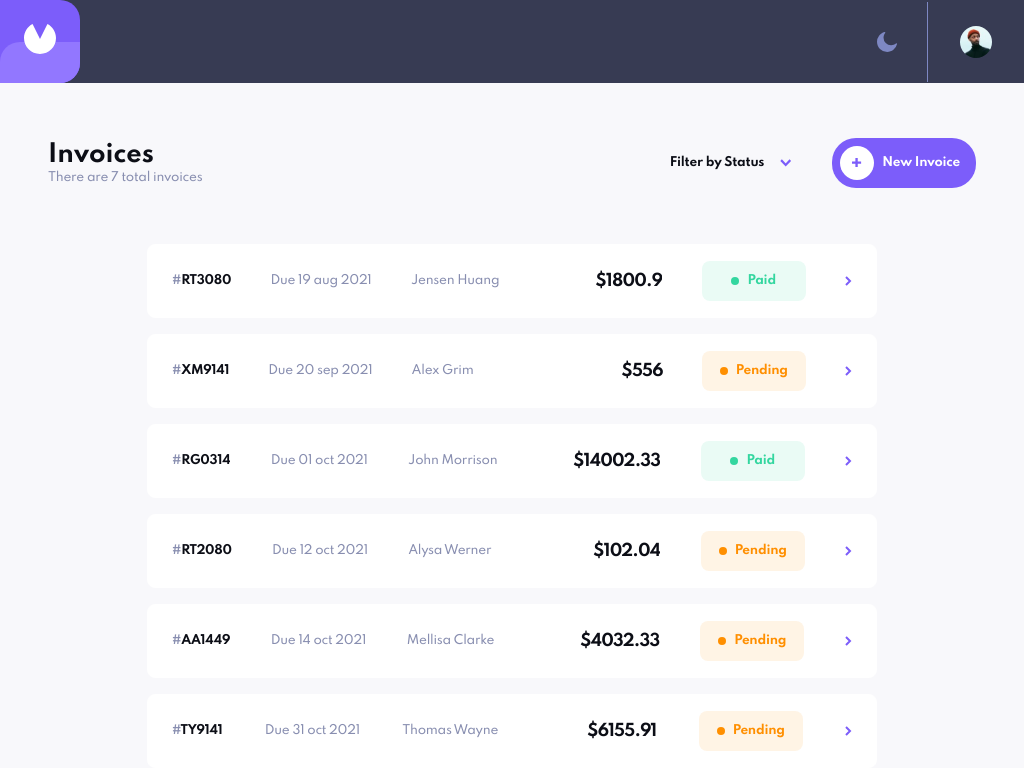
Testing InvoiceView component › Testing InvoiceView behavior › InvoiceView component isn't in the document initially, but is rendered when clicking on an InvoiceShort component
The width and height of the screenshot is (1024, 768).
Click the element with class "invoice-short" that starts with "RT3080": (512, 281) [147,244,877,318]
(page scrolled)
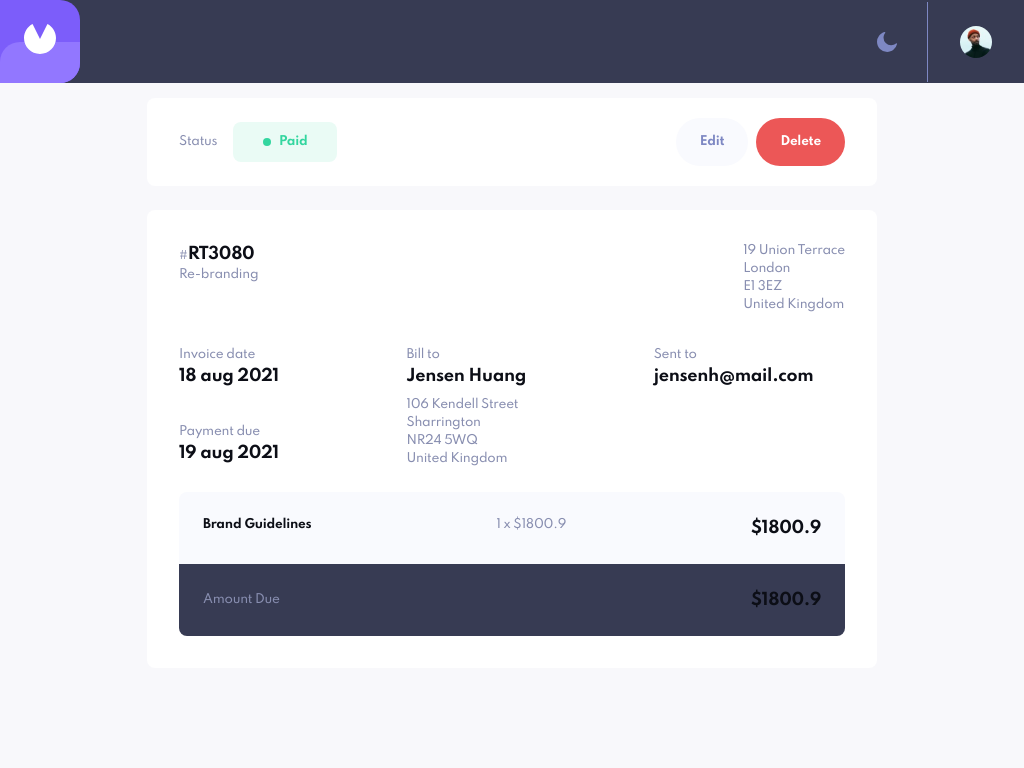
Now the element with test id "invoice-view" is shown, box [147,56,877,668]
